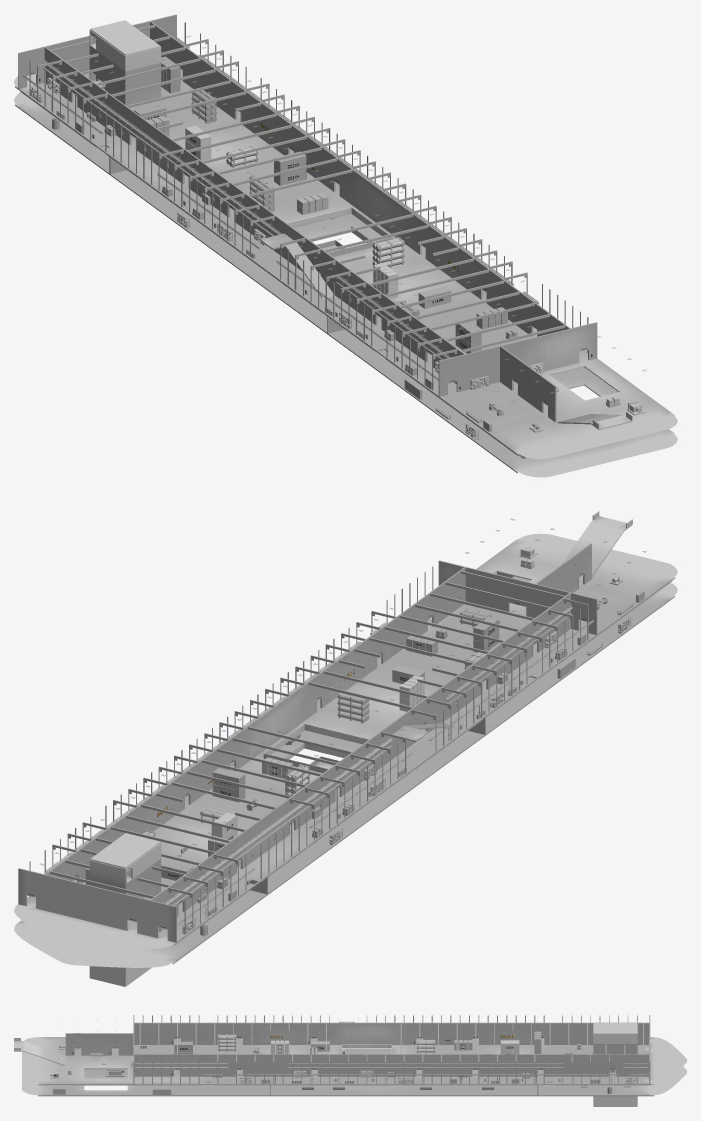
Rendered from below_decks.glb.
3 views of the same model, one above another, from view 1: azimuth 30°, elevation 25°; view 2: azimuth 150°, elevation 25°; view 3: azimuth 270°, elevation 25° (orthographic). The views are drawn at different scales.
Visible parts, largest first — view 1: below_decks; view 2: below_decks; view 3: below_decks.
Part boxes in pixels (x1,y1,x2,y2): below_decks: (14,14,677,477); below_decks: (14,511,677,986); below_decks: (14,1015,686,1106).
Bounding box in the file's own units: 36 × 25.95 × 217.
3 materials, 2 textured.
